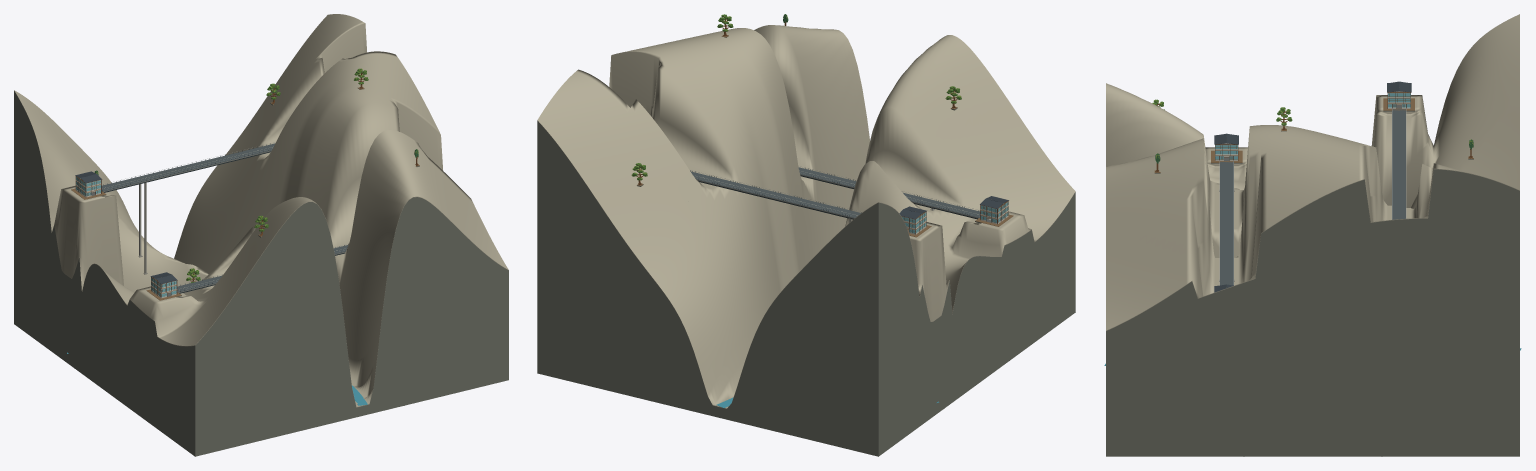
3 renders of one model, left to right at view 1: azimuth 30°, elevation 25°; view 2: azimuth 150°, elevation 25°; view 3: azimuth 270°, elevation 25°, orthographic. The views are drawn at different scales.
Parts seen in each view (by area): view 1: 连续岩土实体与最小原生岩块 (×9), 分层路床、承梁、支座和实墩 (×2); view 2: 连续岩土实体与最小原生岩块 (×9), 分层路床、承梁、支座和实墩 (×2); view 3: 连续岩土实体与最小原生岩块 (×7), 分层路床、承梁、支座和实墩 (×2).
Part boxes in pixels (x1,y1,x2,y2): 连续岩土实体与最小原生岩块 (×9): (14,14,508,456); 分层路床、承梁、支座和实墩 (×2): (101,142,348,293); 连续岩土实体与最小原生岩块 (×9): (537,25,1075,456); 分层路床、承梁、支座和实墩 (×2): (690,166,980,222); 连续岩土实体与最小原生岩块 (×7): (1106,14,1519,456); 分层路床、承梁、支座和实墩 (×2): (1219,108,1406,285).
Size of the model in its own units: 289 by 237 by 290.
Materials: 25 (24 with a texture image).
